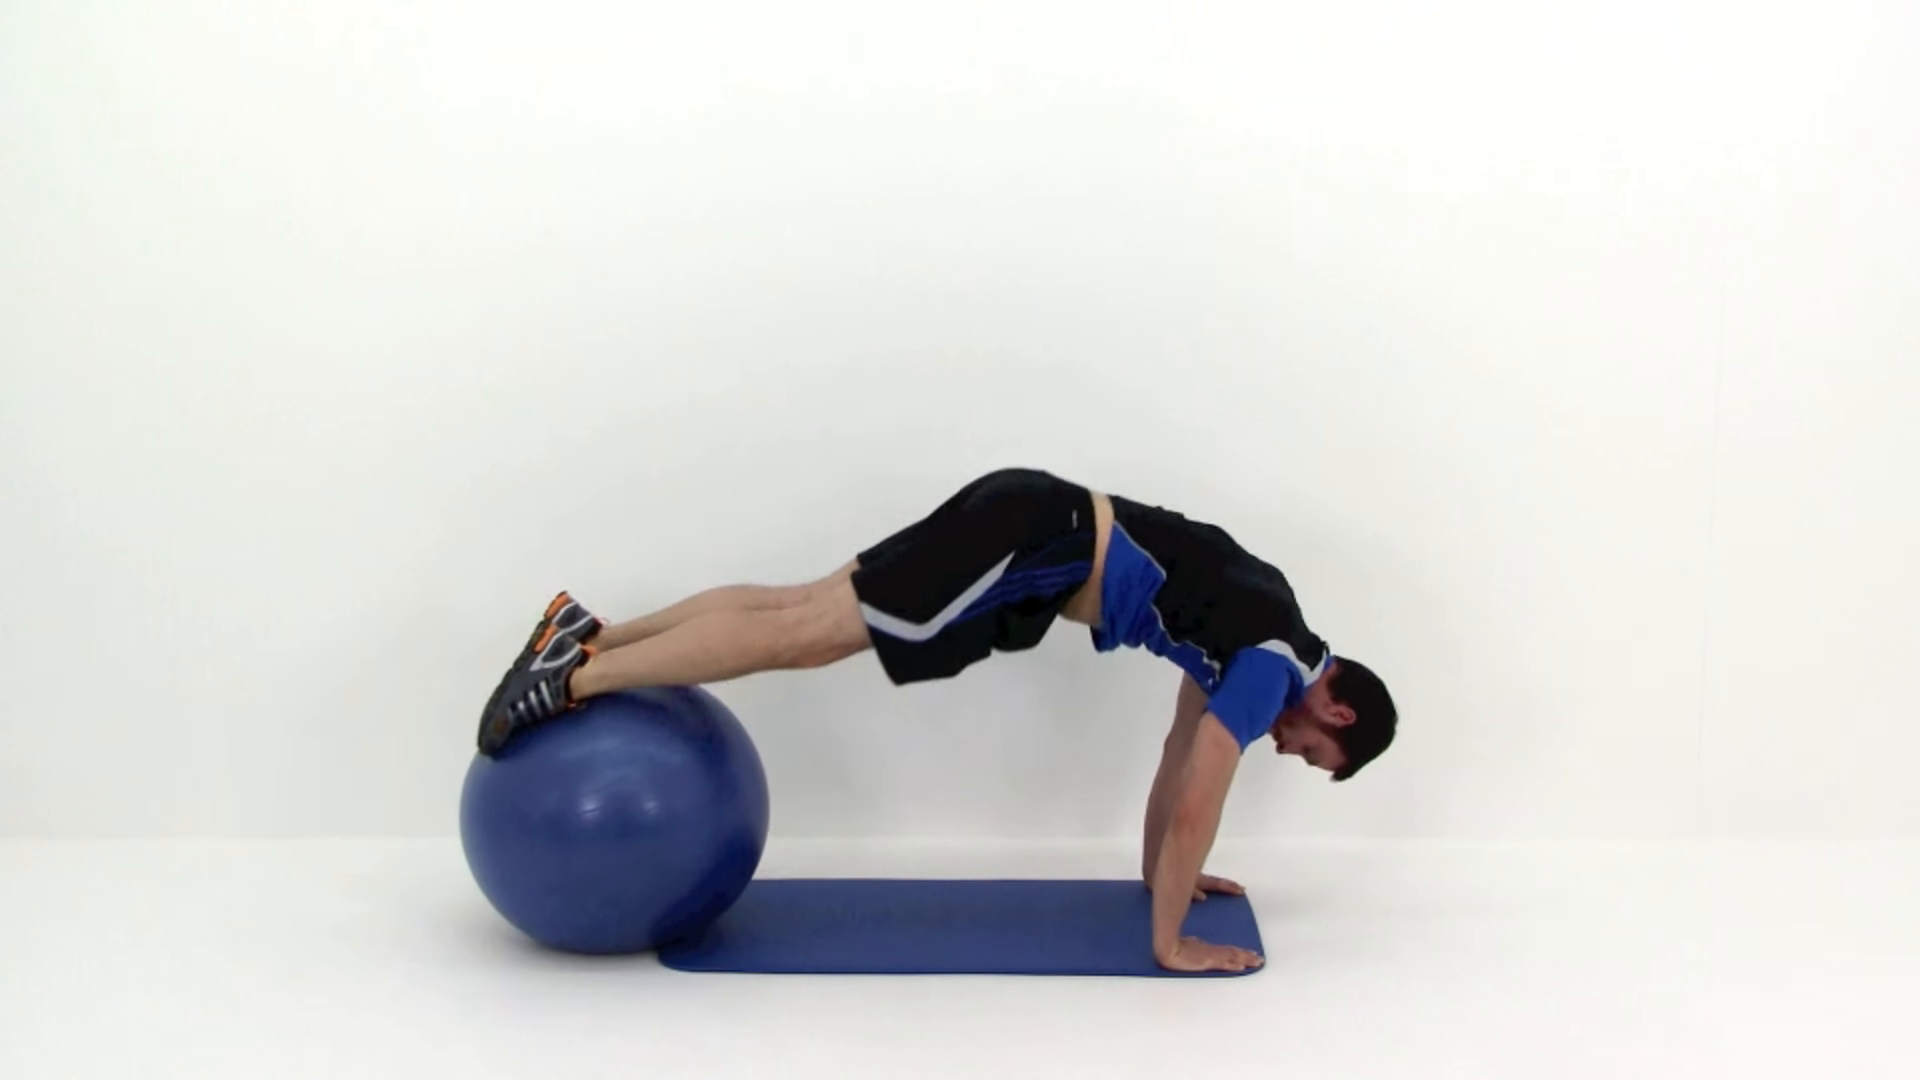yogaball: (446, 676, 785, 973)
